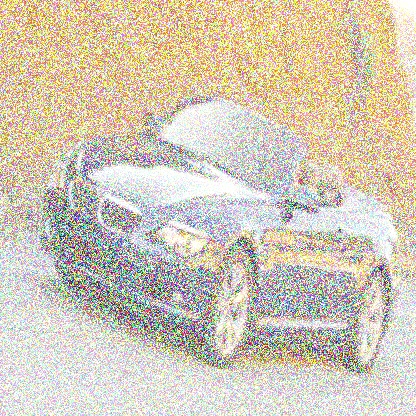Vehicle: (40, 94, 406, 377)
